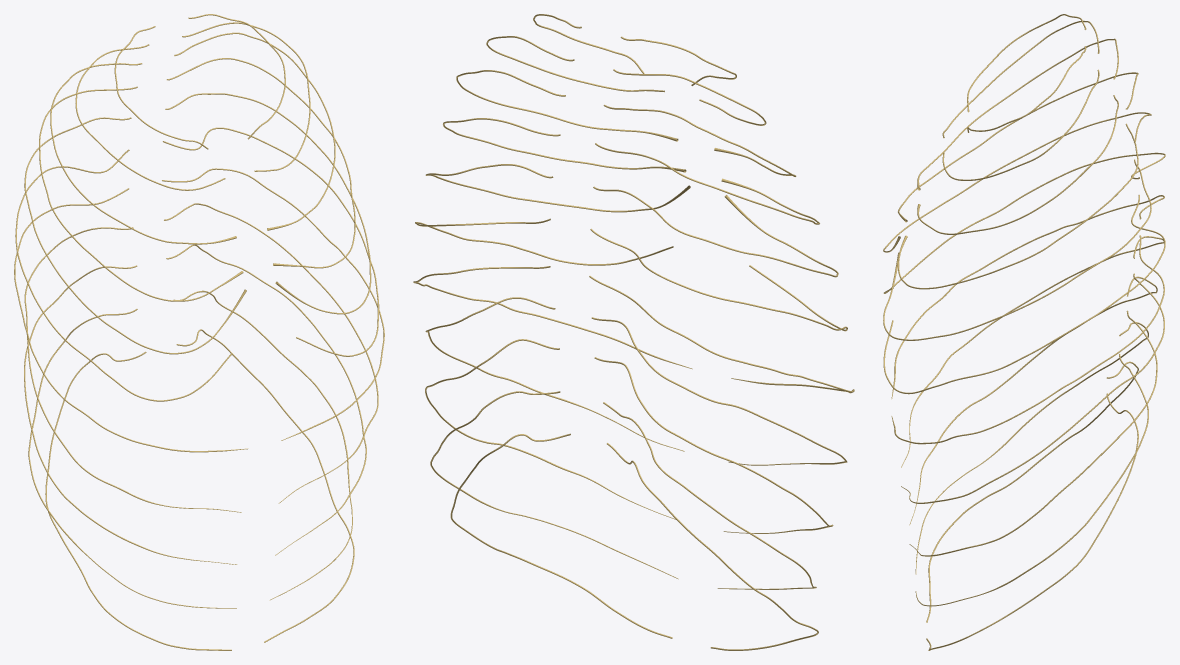
Rendered from detail-nervous-thorax.glb.
The picture shows the model from 3 angles, left to right: view 1: azimuth 30°, elevation 25°; view 2: azimuth 150°, elevation 25°; view 3: azimuth 270°, elevation 25°; orthographic projection. The views are drawn at different scales.
Visible parts, largest first — view 1: za-9daa6cc5017f3765, za-f1d21b4ce118f399; view 2: za-f1d21b4ce118f399, za-9daa6cc5017f3765; view 3: za-f1d21b4ce118f399, za-9daa6cc5017f3765.
Boxes of the visible parts, box(x1,y1,x2,y2) form: za-9daa6cc5017f3765: box(14, 26, 248, 650); za-f1d21b4ce118f399: box(162, 14, 384, 642); za-f1d21b4ce118f399: box(413, 14, 692, 638); za-9daa6cc5017f3765: box(589, 36, 854, 650); za-f1d21b4ce118f399: box(883, 46, 1165, 650); za-9daa6cc5017f3765: box(883, 14, 1165, 622).
Bounding box in the file's own units: 0.2744 × 0.4538 × 0.1956.
